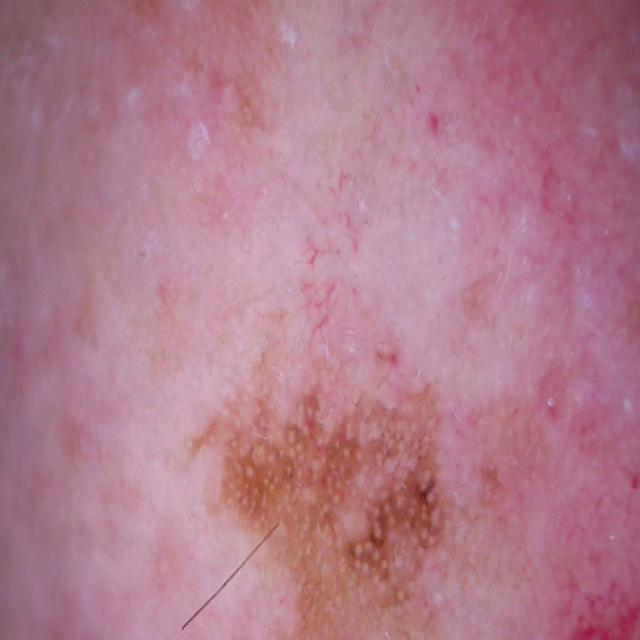Keratosis: (203, 302, 483, 640)
